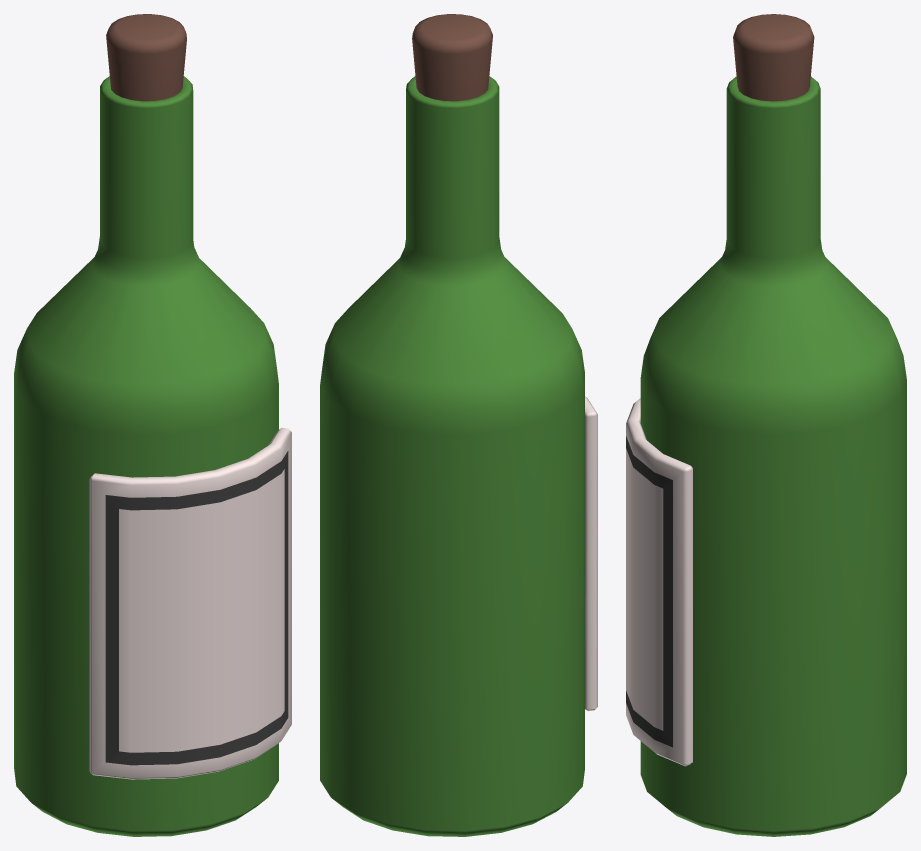
File: Bottle_5.fbx
The picture shows the model from 3 angles, left to right: view 1: azimuth 30°, elevation 25°; view 2: azimuth 150°, elevation 25°; view 3: azimuth 270°, elevation 25°; orthographic projection.
Parts seen in each view (by area): view 1: Bottle_5; view 2: Bottle_5; view 3: Bottle_5.
Part boxes in pixels (x1,y1,x2,y2): Bottle_5: [14, 14, 291, 836]; Bottle_5: [320, 14, 597, 836]; Bottle_5: [626, 14, 906, 836].
Bounding box in the file's own units: 13.87 × 43.64 × 14.62.
